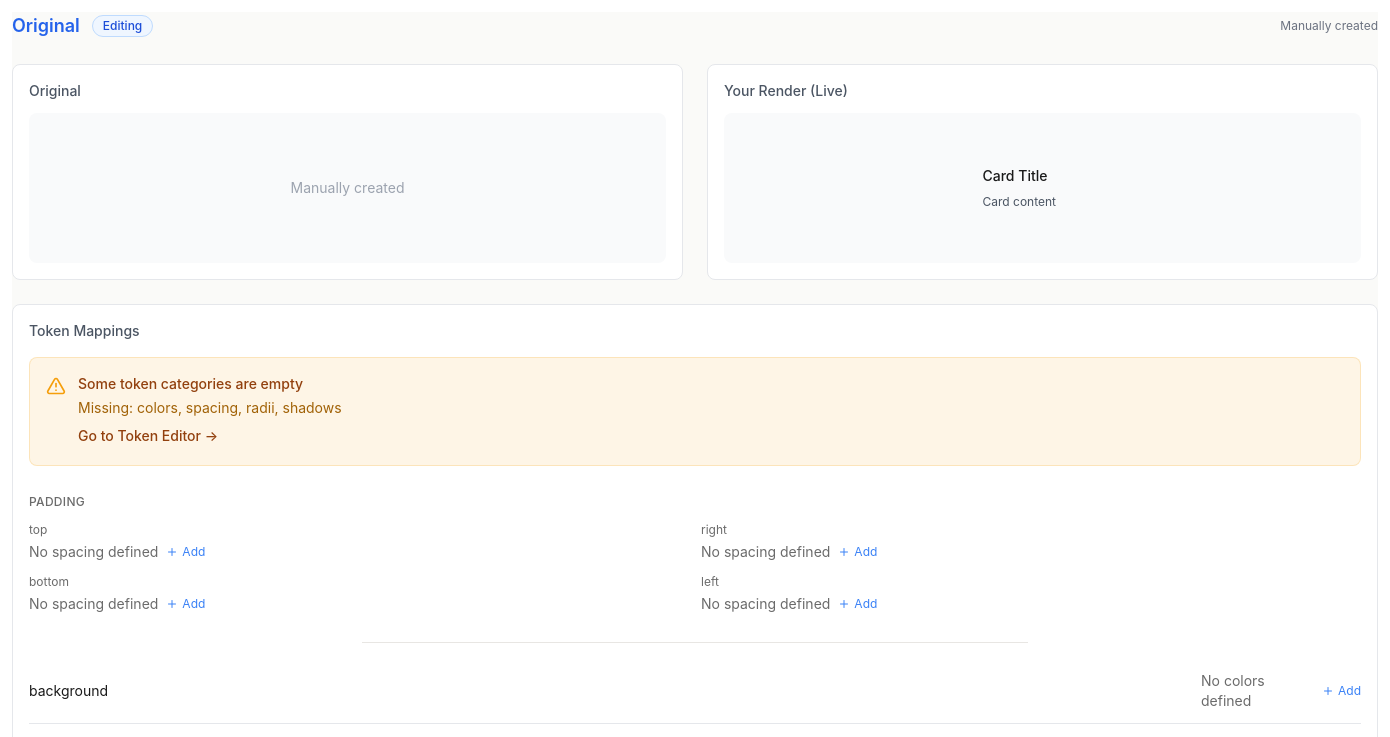
Test: VariantDetail › cancel renaming restores original name
Expected: the text "Manually created" in the row of "Editing" is shown, [1280, 18, 1378, 33]
Expected: the text "Editing" is shown, [92, 15, 153, 37]
Click the heading "Original" next to "Editing": point(46, 26) [12, 12, 80, 40]
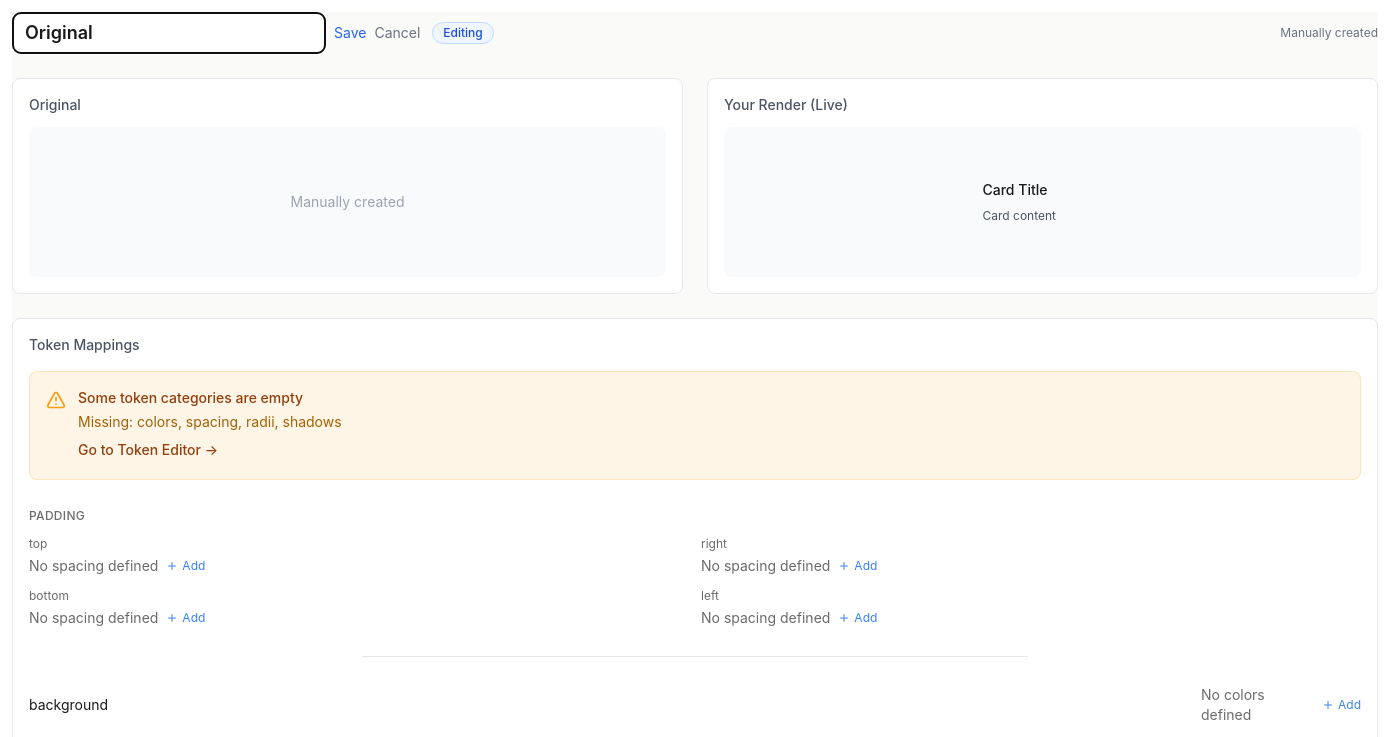
Replace the text in the field with "New Name": point(169, 33) [12, 12, 326, 54]
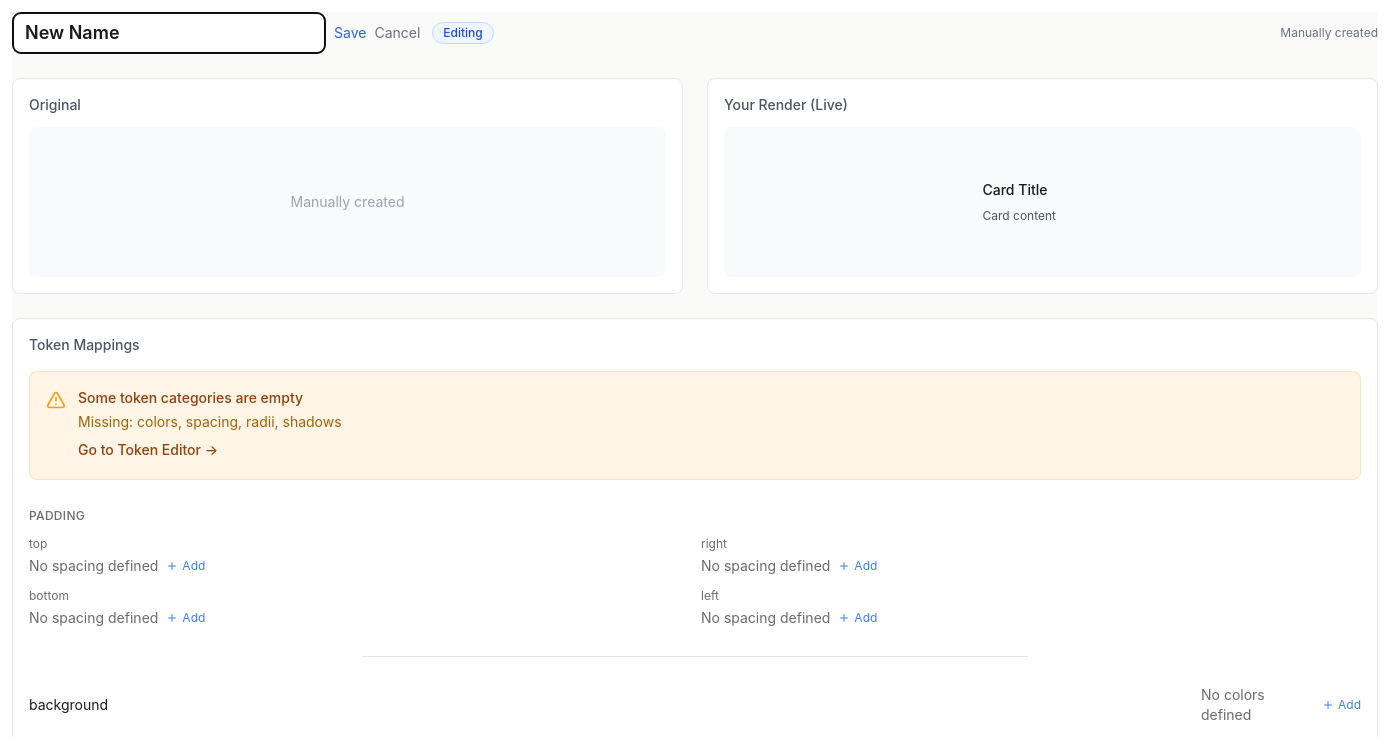
Click the button "Cancel": point(397, 33) [374, 23, 420, 43]
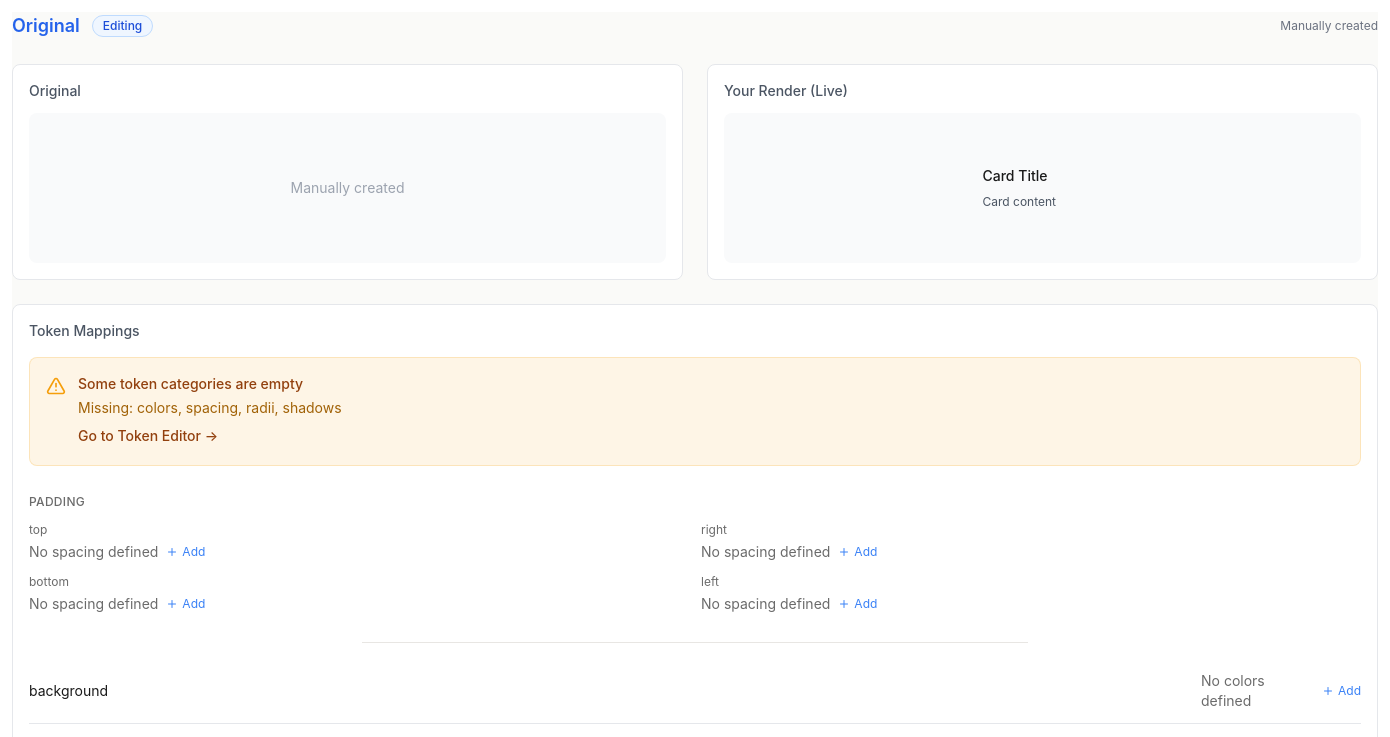
Expected: the heading "Original" next to "Editing" is shown, [12, 15, 80, 36]
